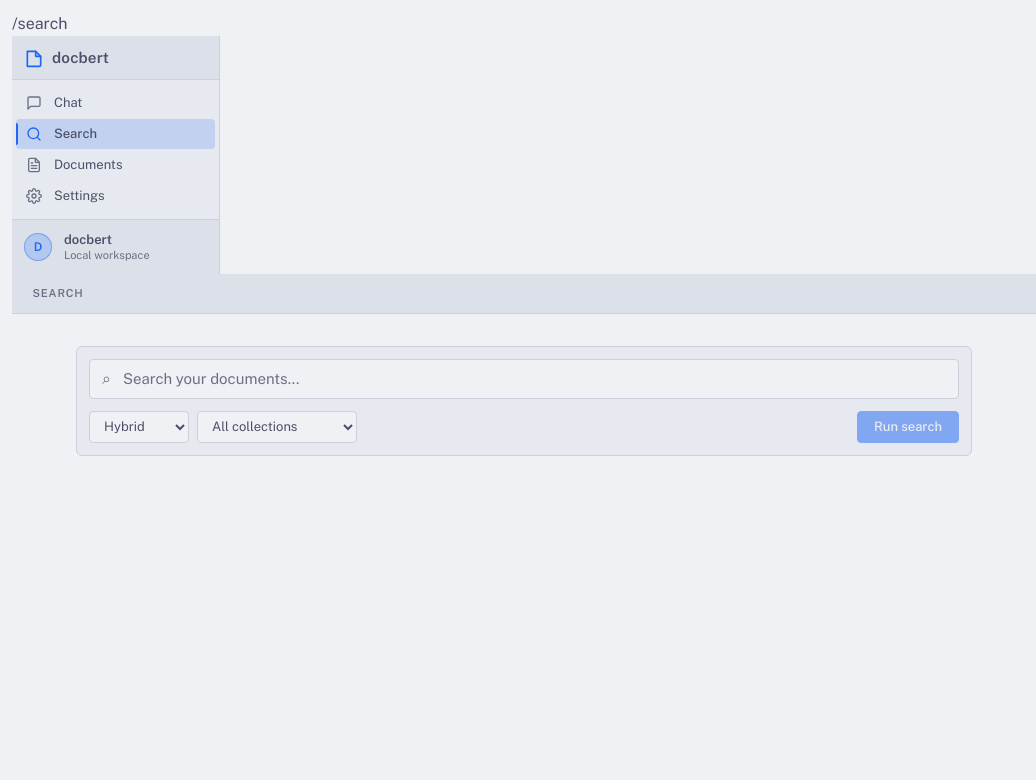
it: Search page › shows a no-results state when the search returns no matches
Type "rust" into the search field named "Query".
click(534, 379); type("rust")  # box 123,361 -> 946,397
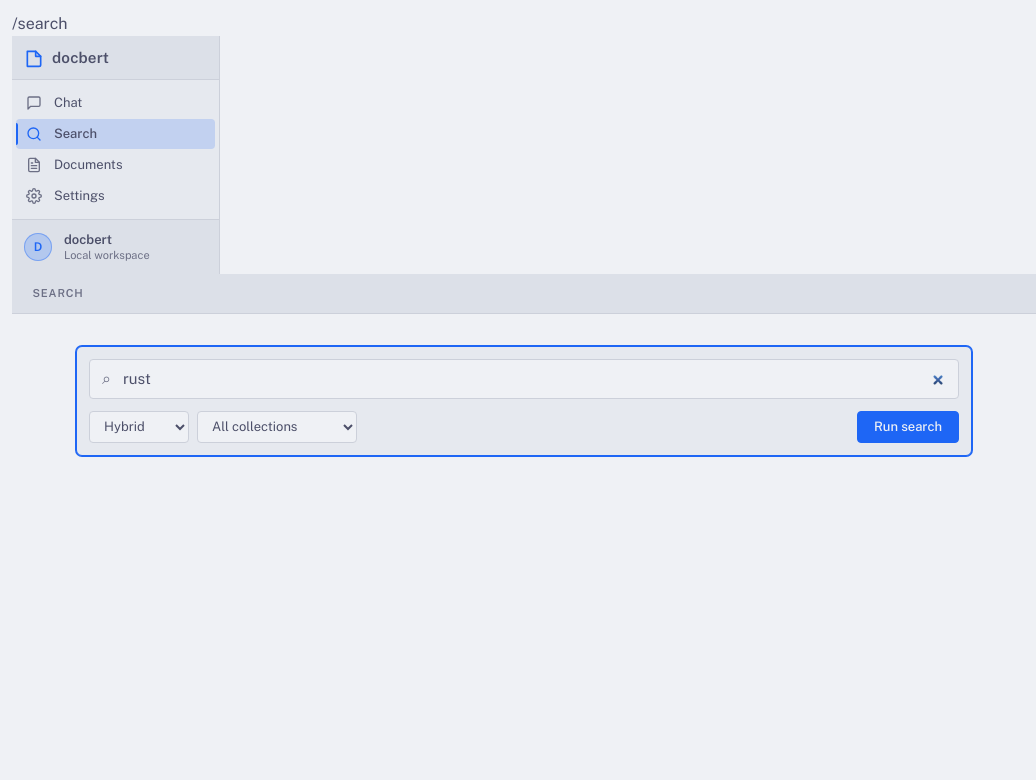
Click the button "Run search".
click(908, 427)  # box 857,411 -> 959,443
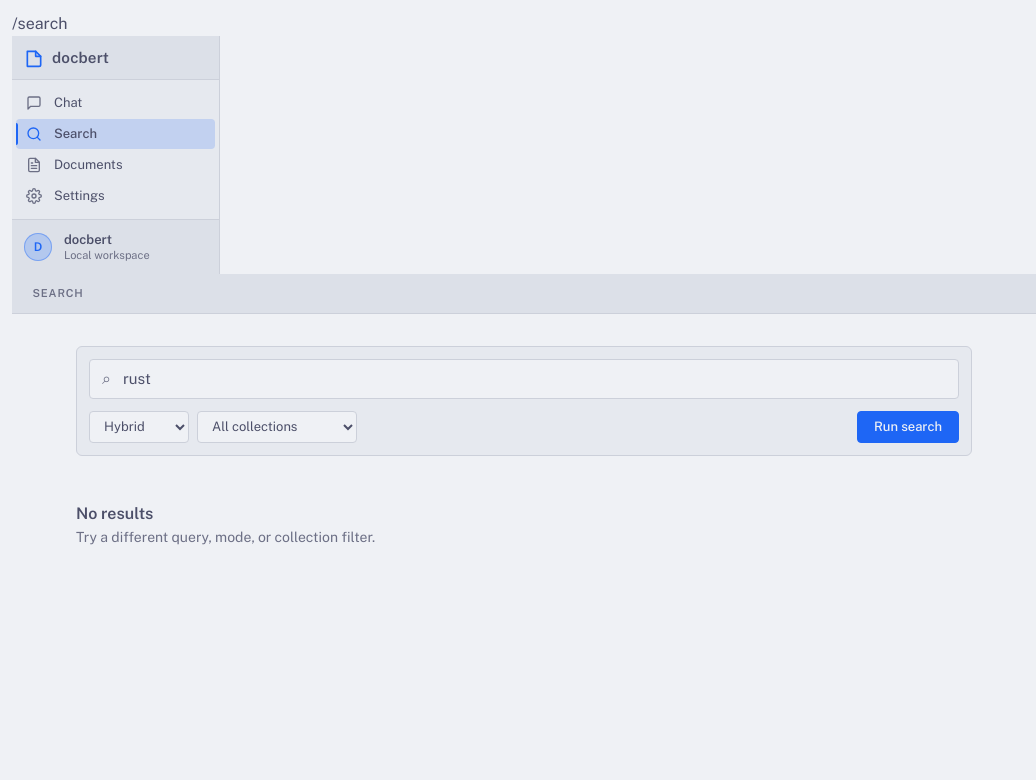
expect the text "No results" is shown: met, box 76,504 -> 153,523
expect the text "Try a different query, mode, or collection filter." is shown: met, box 76,529 -> 375,545
